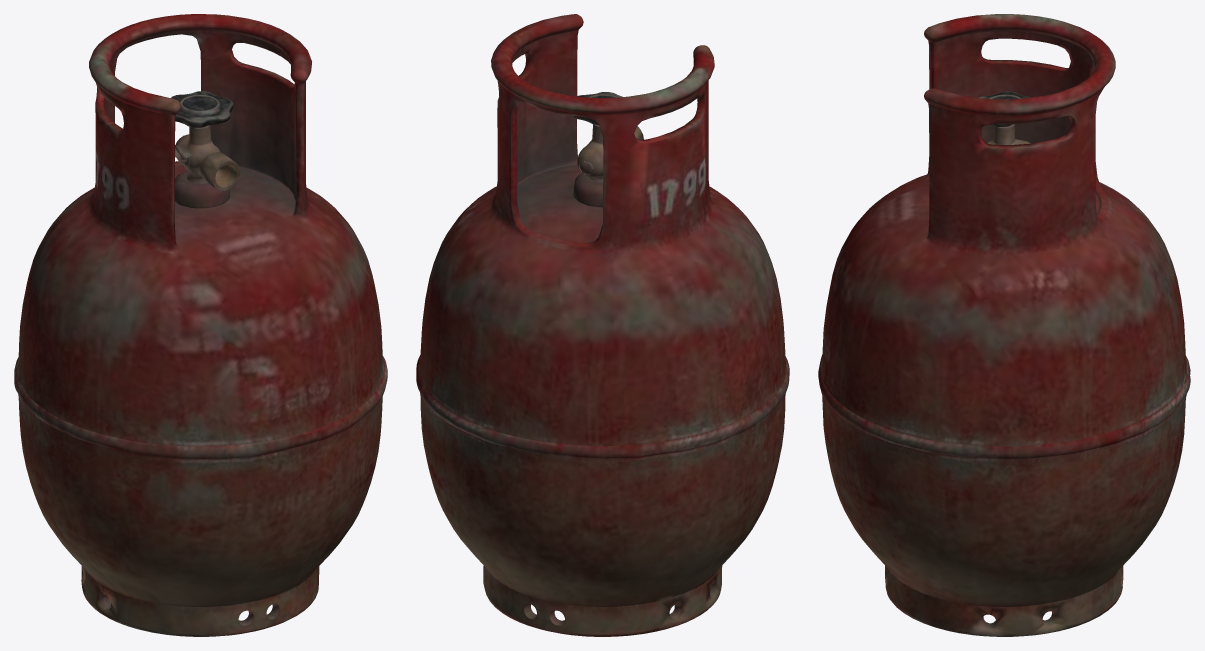
The model's file is small_lpg_tank.glb.
3 views of the same model, side by side, from view 1: azimuth 30°, elevation 25°; view 2: azimuth 150°, elevation 25°; view 3: azimuth 270°, elevation 25° (orthographic).
Visible parts, largest first — view 1: small_lpg_tank; view 2: small_lpg_tank; view 3: small_lpg_tank.
Part boxes in pixels (box(x1,y1,x2,y2)): small_lpg_tank: box(14, 14, 387, 636); small_lpg_tank: box(416, 14, 789, 636); small_lpg_tank: box(818, 14, 1190, 636).
Bounding box in the file's own units: 0.41 × 0.642 × 0.4092.
1 material, 1 textured.
